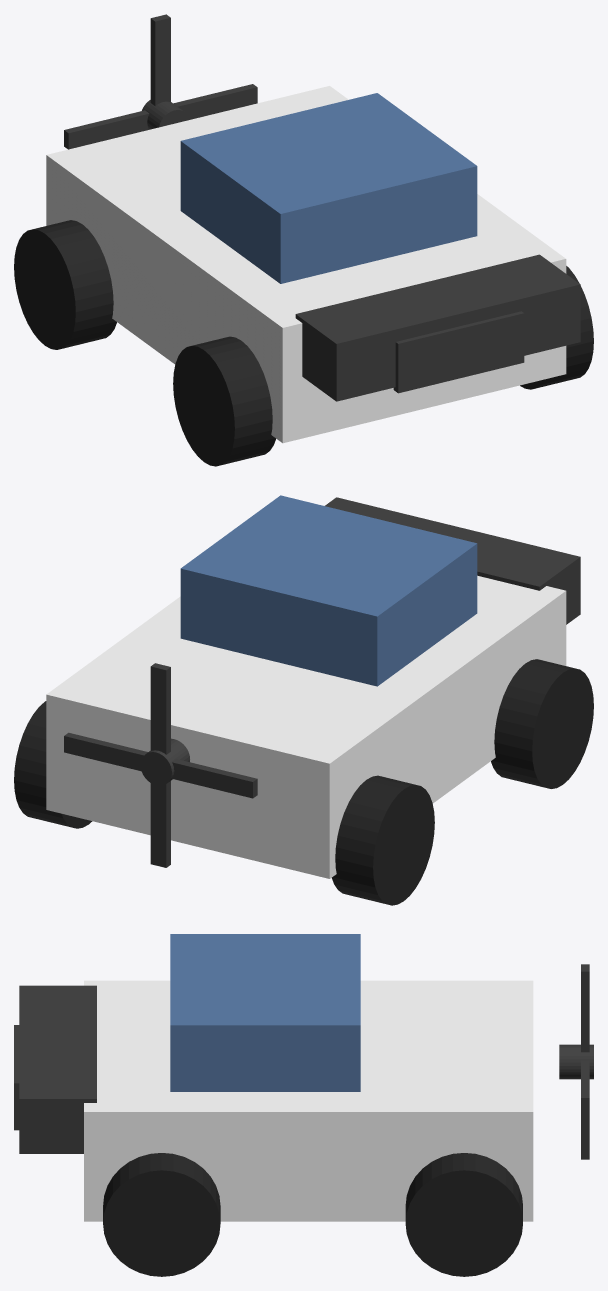
Rendered from BoxCar.glb.
3 renders of one model, top to bottom at view 1: azimuth 30°, elevation 25°; view 2: azimuth 150°, elevation 25°; view 3: azimuth 270°, elevation 25°, orthographic. The views are drawn at different scales.
Parts seen in each view (by area): view 1: Body, Cabin, Nose, Wheel_RL, Wheel_FL, Grille, Blade_H, Wheel_FR, Blade_V, Hub; view 2: Body, Cabin, Wheel_FL, Wheel_RL, Nose, Blade_V, Wheel_RR, Blade_H, Hub; view 3: Body, Cabin, Nose, Wheel_FR, Wheel_RR, Blade_V, Hub, Grille, Blade_H.
Boxes of the visible parts, bbox=[...] form: Body: bbox=[46, 86, 566, 443]; Cabin: bbox=[180, 93, 477, 283]; Nose: bbox=[295, 254, 580, 401]; Wheel_RL: bbox=[14, 220, 116, 349]; Wheel_FL: bbox=[173, 336, 275, 466]; Grille: bbox=[393, 311, 524, 393]; Blade_H: bbox=[64, 84, 257, 149]; Wheel_FR: bbox=[520, 266, 593, 389]; Blade_V: bbox=[150, 14, 170, 105]; Hub: bbox=[142, 100, 189, 129]; Body: bbox=[46, 575, 566, 878]; Cabin: bbox=[180, 495, 477, 686]; Wheel_FL: bbox=[491, 659, 593, 788]; Wheel_RL: bbox=[332, 775, 434, 905]; Nose: bbox=[325, 497, 580, 624]; Blade_V: bbox=[150, 663, 170, 867]; Wheel_RR: bbox=[14, 701, 92, 828]; Blade_H: bbox=[64, 732, 257, 798]; Hub: bbox=[140, 738, 189, 785]; Body: bbox=[84, 980, 533, 1221]; Cabin: bbox=[170, 934, 360, 1091]; Nose: bbox=[19, 985, 96, 1153]; Wheel_FR: bbox=[103, 1153, 220, 1276]; Wheel_RR: bbox=[405, 1153, 522, 1276]; Blade_V: bbox=[581, 964, 589, 1159]; Hub: bbox=[559, 1044, 593, 1079]; Grille: bbox=[14, 1025, 19, 1130]; Blade_H: bbox=[581, 1060, 589, 1113].
Size of the model in its own units: 2.28 by 1.44 by 3.36.
